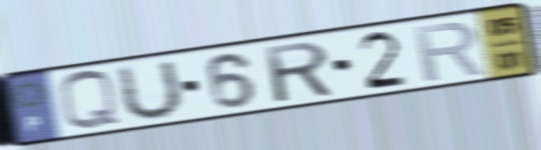2: (356, 29, 410, 93)
6: (205, 49, 258, 111)
Q: (55, 68, 125, 134)
R: (261, 38, 338, 105), (411, 19, 487, 85)
U: (116, 56, 187, 125)
